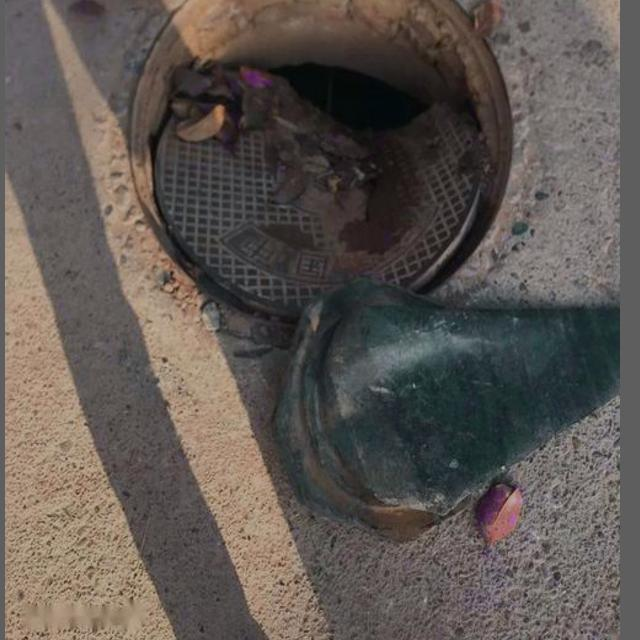broke: (108, 0, 541, 327)
